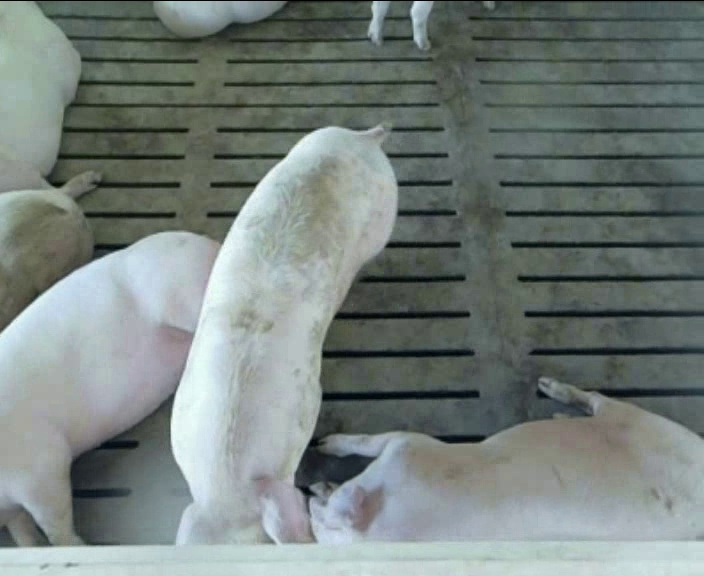pig: (173, 127, 396, 543), (0, 232, 218, 544), (309, 377, 703, 541), (0, 189, 93, 330)
